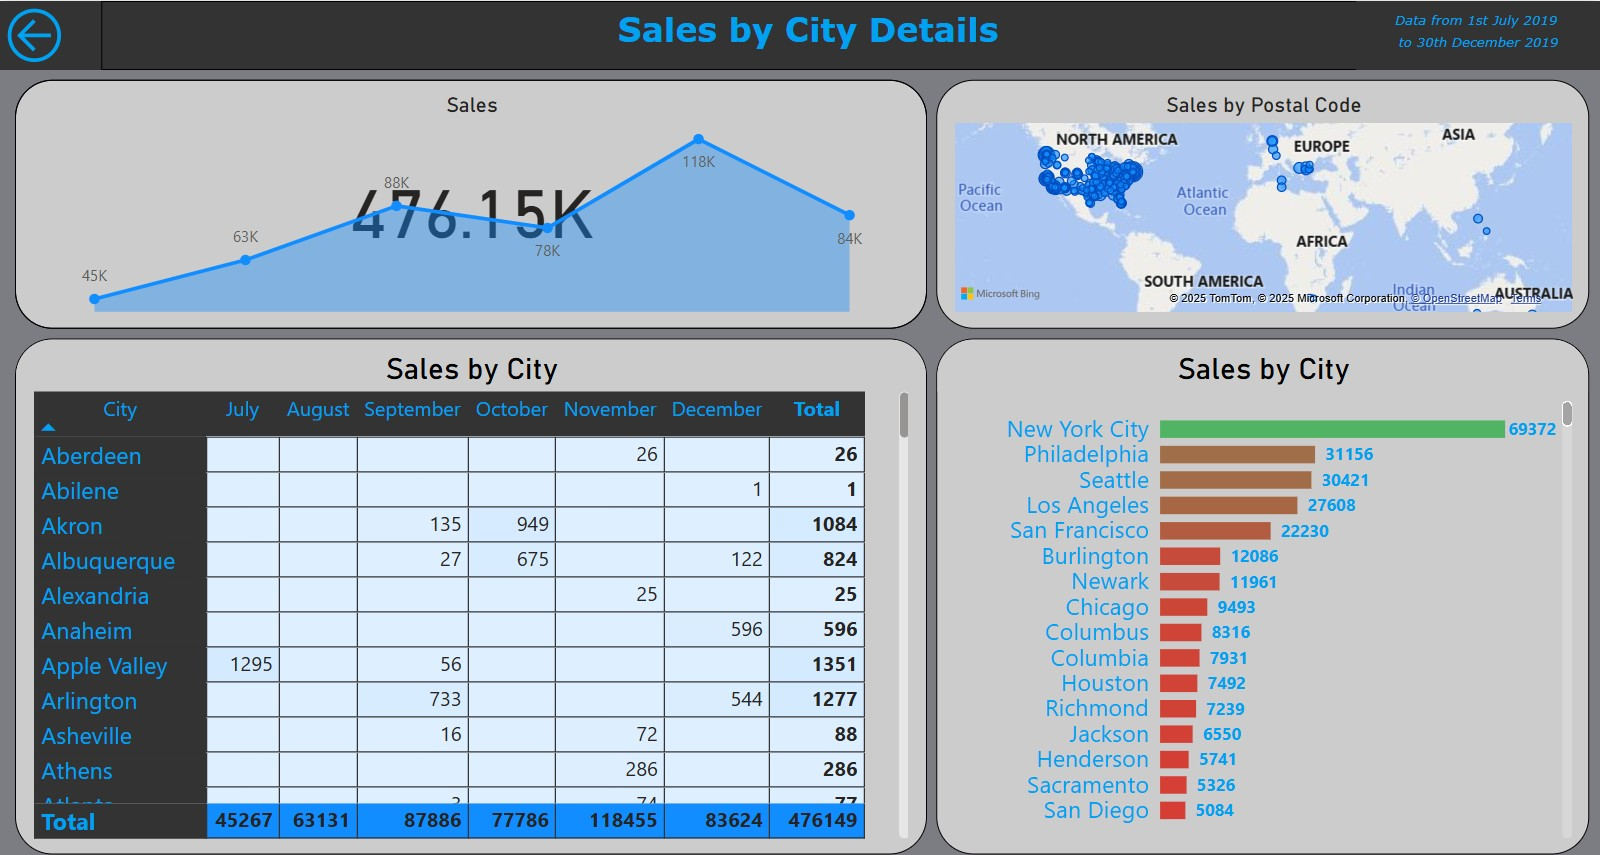

This screenshot's page, from the dashboard's own definition file:
{"tool":"powerbi","page":{"name":"Sales By City","canvas":[1280,690],"ordinal":1},"visuals":[{"type":"pivotTable","title":"Sales by City","fields":{"Rows":["Geographical_DimTable.City"],"Columns":["Orders_Table.Order Date.Variation.Date Hierarchy.Month"],"Values":["Sum(Orders_Table.Sales)"]},"box":[12.2,270,728.9,413.3],"z":0},{"type":"actionButton","box":[0,0,81,55],"z":1000},{"type":"textbox","box":[81.2,0,1128.8,55],"z":2000},{"type":"textbox","box":[1085,0,195,55],"z":3000},{"type":"barChart","title":"Sales by City","fields":{"Category":["Geographical_DimTable.City"],"Y":["Sum(Orders_Table.Sales)"]},"box":[748.9,270,522.2,413.3],"z":4000},{"type":"card","title":"Sales in Last 6 Months","fields":{"Values":["Sum(Orders_Table.Sales)"]},"box":[12.2,63.3,728.9,198.9],"z":5000},{"type":"areaChart","title":"Sales","fields":{"Category":["Orders_Table.Order Date.Variation.Date Hierarchy.Month"],"Y":["Sum(Orders_Table.Sales)"]},"box":[12.2,63.3,728.9,198.9],"z":6000},{"type":"map","title":"Sales by Postal Code","fields":{"Size":["Sum(Orders_Table.Sales)"],"Category":["Geographical_DimTable.Postal Code"]},"box":[748.9,63.3,522.2,198.9],"z":7000}]}

Visuals, with their boxes in screenshot pixels (x1, y1, x2, y2), scaled from the page's 1280x690 canvas onto the 1600x855 screenshot:
"Sales by City" pivotTable: BBox(15, 335, 926, 847)
actionButton: BBox(0, 0, 101, 68)
textbox: BBox(102, 0, 1512, 68)
textbox: BBox(1356, 0, 1599, 68)
"Sales by City" barChart: BBox(936, 335, 1589, 847)
"Sales in Last 6 Months" card: BBox(15, 78, 926, 325)
"Sales" areaChart: BBox(15, 78, 926, 325)
"Sales by Postal Code" map: BBox(936, 78, 1589, 325)
